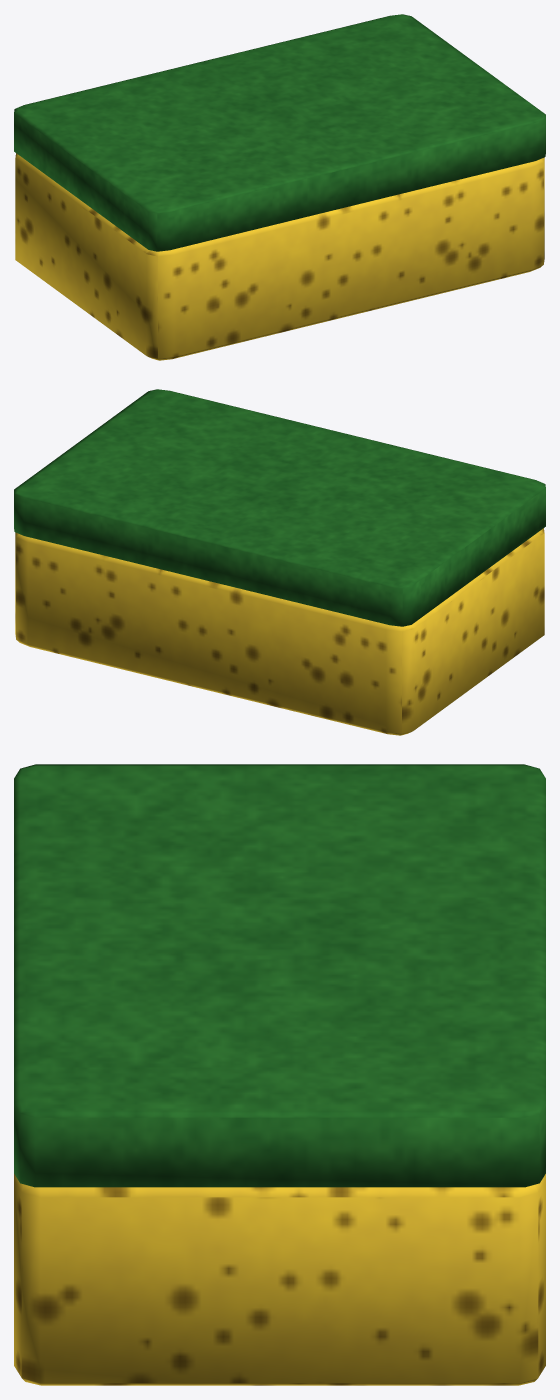
File: kitchen_sponge.glb
3 renders of one model, top to bottom at view 1: azimuth 30°, elevation 25°; view 2: azimuth 150°, elevation 25°; view 3: azimuth 270°, elevation 25°, orthographic. The views are drawn at different scales.
Parts seen in each view (by area): view 1: JoinedAsset; view 2: JoinedAsset; view 3: JoinedAsset.
Boxes of the visible parts, <box> form: JoinedAsset: <box>14,14,545,360</box>; JoinedAsset: <box>14,389,545,735</box>; JoinedAsset: <box>14,764,545,1385</box>.
Size of the model in its own units: 2.2 by 0.81 by 1.4.
Materials: 2 (2 with a texture image).
